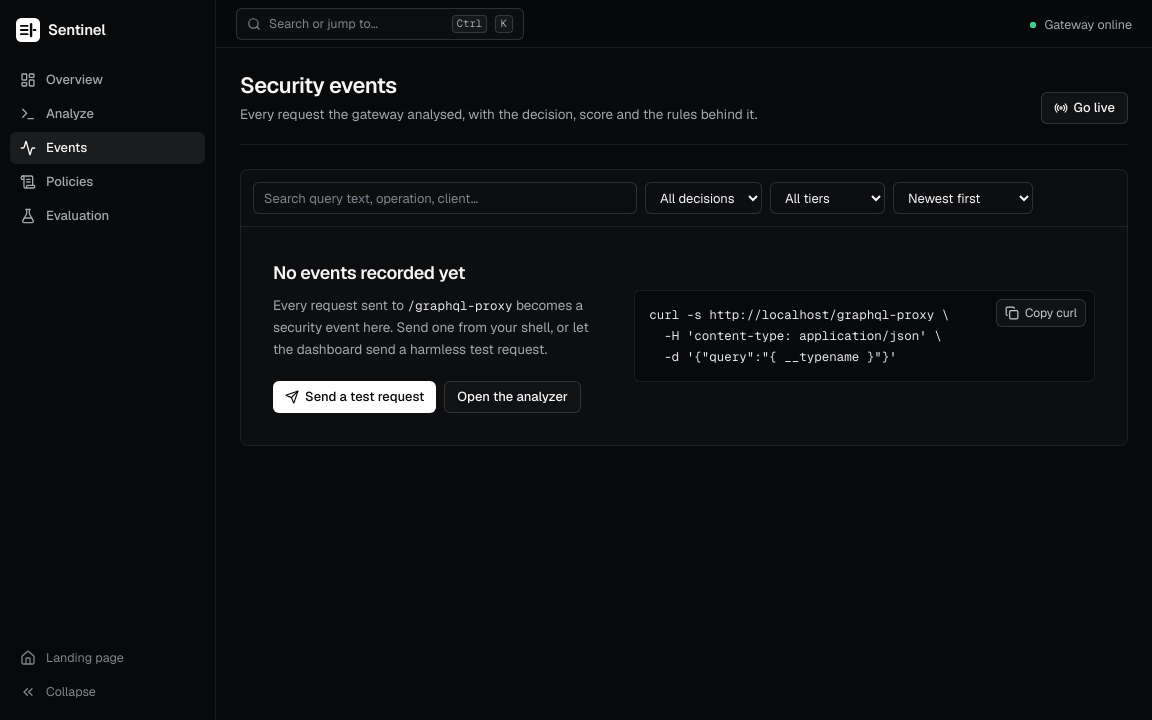
Test: first run: shows a copyable curl and sends a real test request through the gateway
The image size is (1152, 720).
Expected: the text "No events recorded yet" is shown, top-left (273, 261), bottom-right (465, 284)
Click the button with aria-label "copy curl to clipboard" at (1041, 313), box top-left (996, 299), bottom-right (1086, 327)
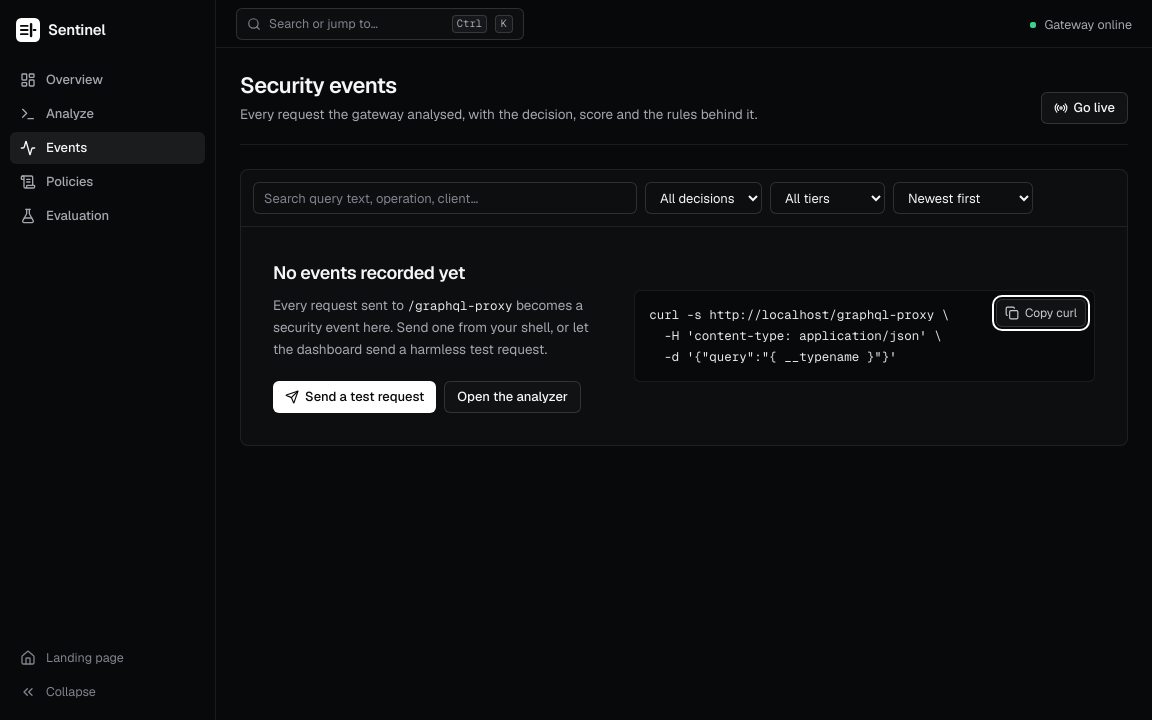
Click the button "Send a test request" at (355, 397), box top-left (273, 381), bottom-right (436, 413)
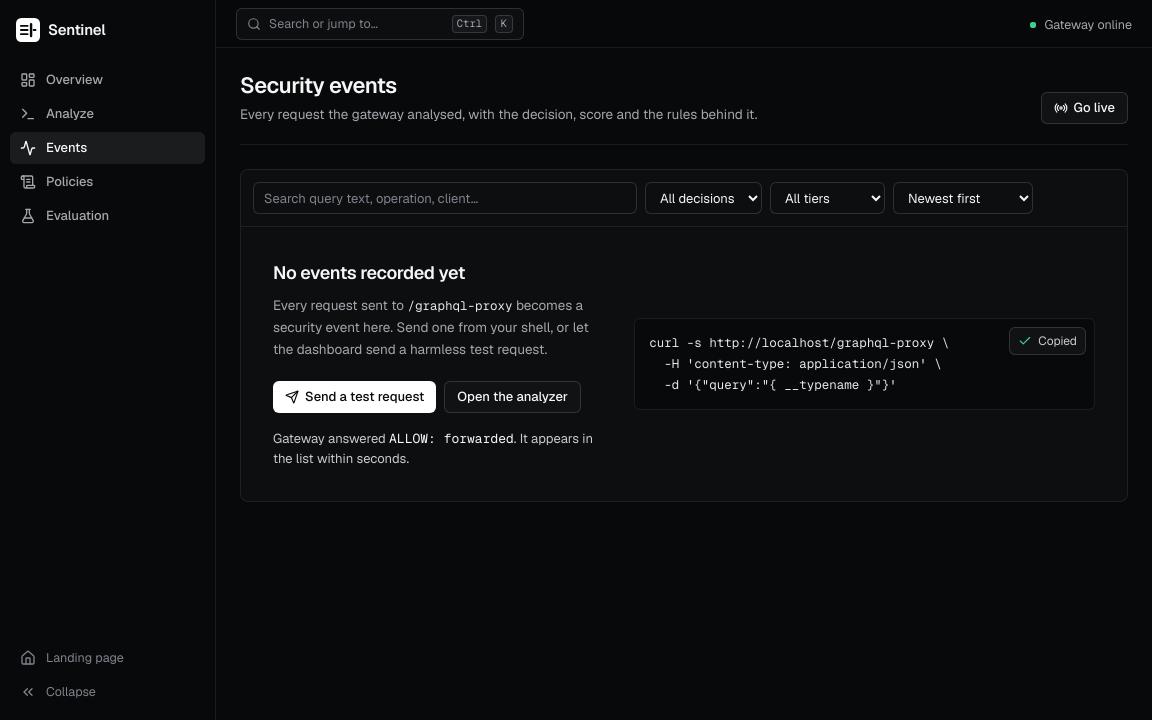
Expected: the text "ALLOW: forwarded" is shown, top-left (389, 430), bottom-right (514, 447)
